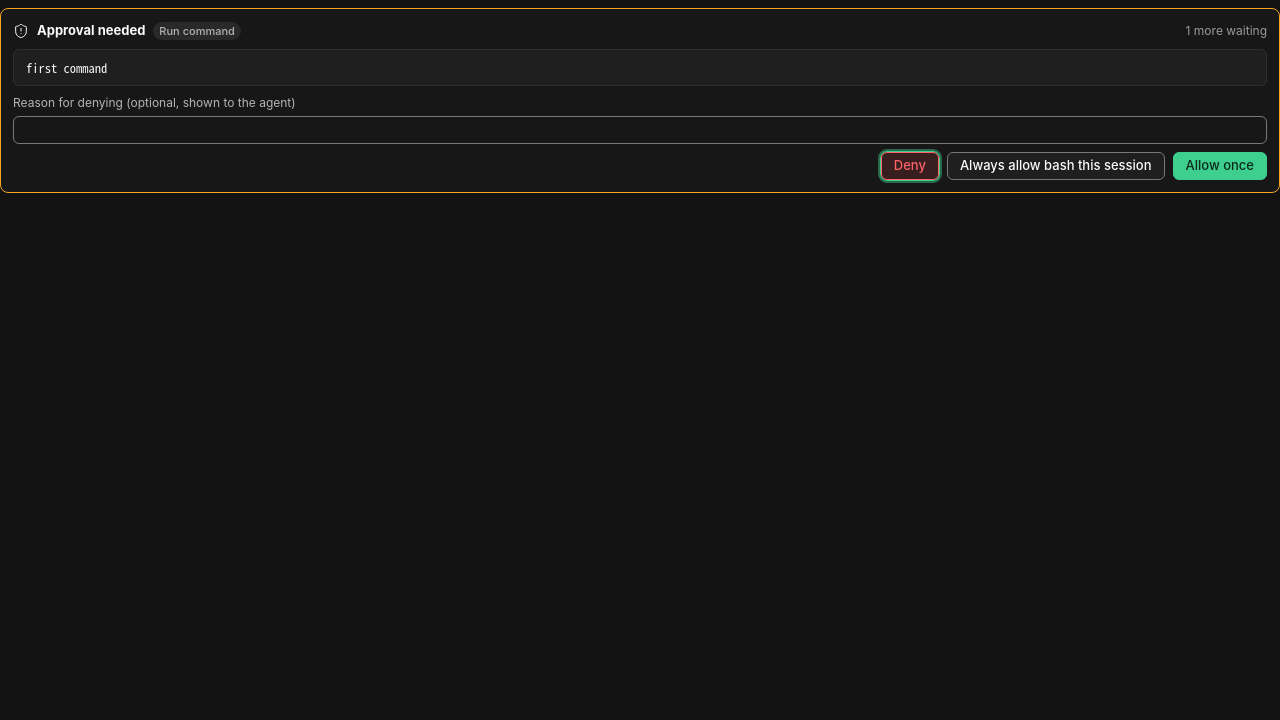
ApprovalCard › shows one request at a time and queues the rest in order
Expected: the number of dialogs is 1, [0, 8, 1279, 193]
Expected: the text named "What will run" reads "first command", [26, 58, 107, 76]
Step 1. Click the button "Allow once" → (1220, 166), box [1172, 152, 1267, 180]
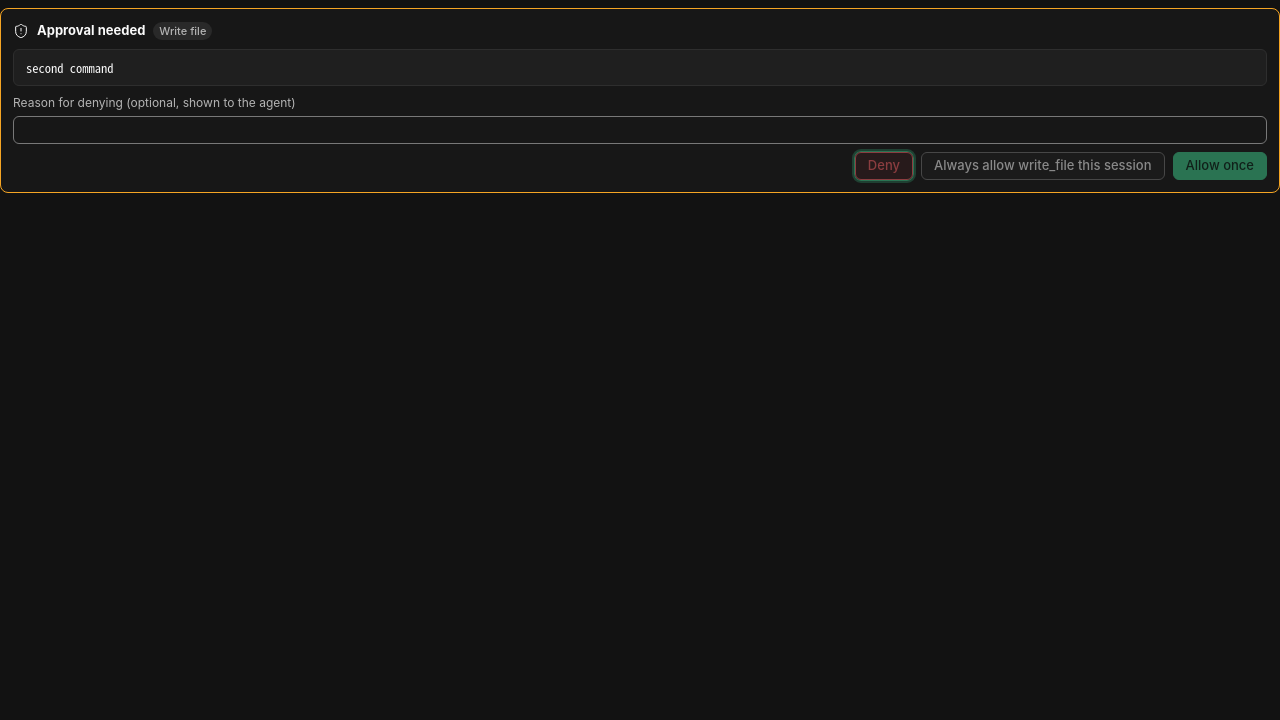
Expected: the number of dialogs is 1, [0, 8, 1279, 193]
Expected: the text named "What will run" reads "second command", [26, 58, 114, 76]
